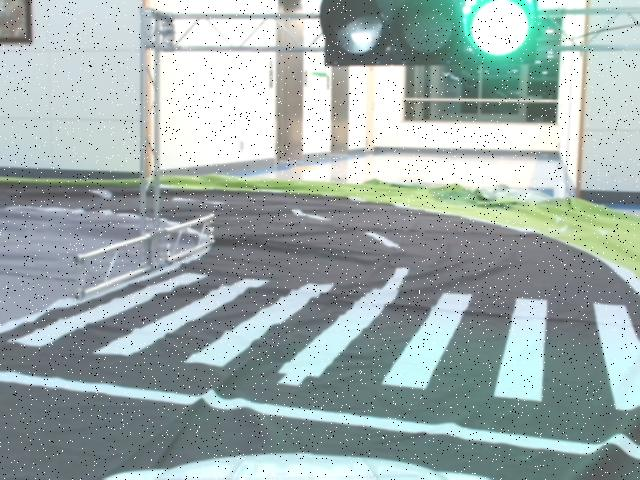crosswalk: (11, 270, 640, 414)
traffic light-green-: (319, 0, 537, 64)
